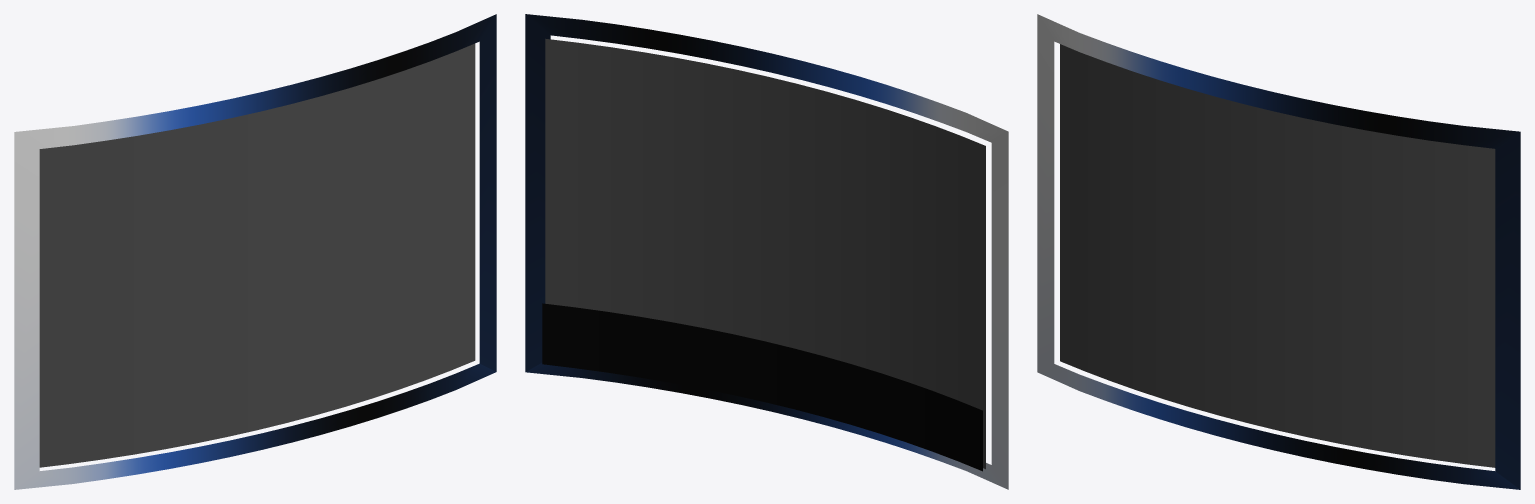
The model's file is ___button_zone_medium_15x8.fbx.
The picture shows the model from 3 angles, left to right: view 1: azimuth 30°, elevation 25°; view 2: azimuth 150°, elevation 25°; view 3: azimuth 330°, elevation 25°; orthographic projection.
Visible parts, largest first — view 1: ___button_zone_medium_15x8, ___glow; view 2: ___button_zone_medium_15x8, ___overlap, ___glow; view 3: ___button_zone_medium_15x8, ___glow.
Boxes of the visible parts, x1,y1,x2,y2 form: ___button_zone_medium_15x8: (39,43,475,467); ___glow: (14,14,496,489); ___button_zone_medium_15x8: (545,38,985,469); ___overlap: (542,303,982,471); ___glow: (525,14,1008,489); ___button_zone_medium_15x8: (1060,44,1495,467); ___glow: (1037,14,1520,489).
Bounding box in the file's own units: 28.4 × 20.12 × 2.54.
